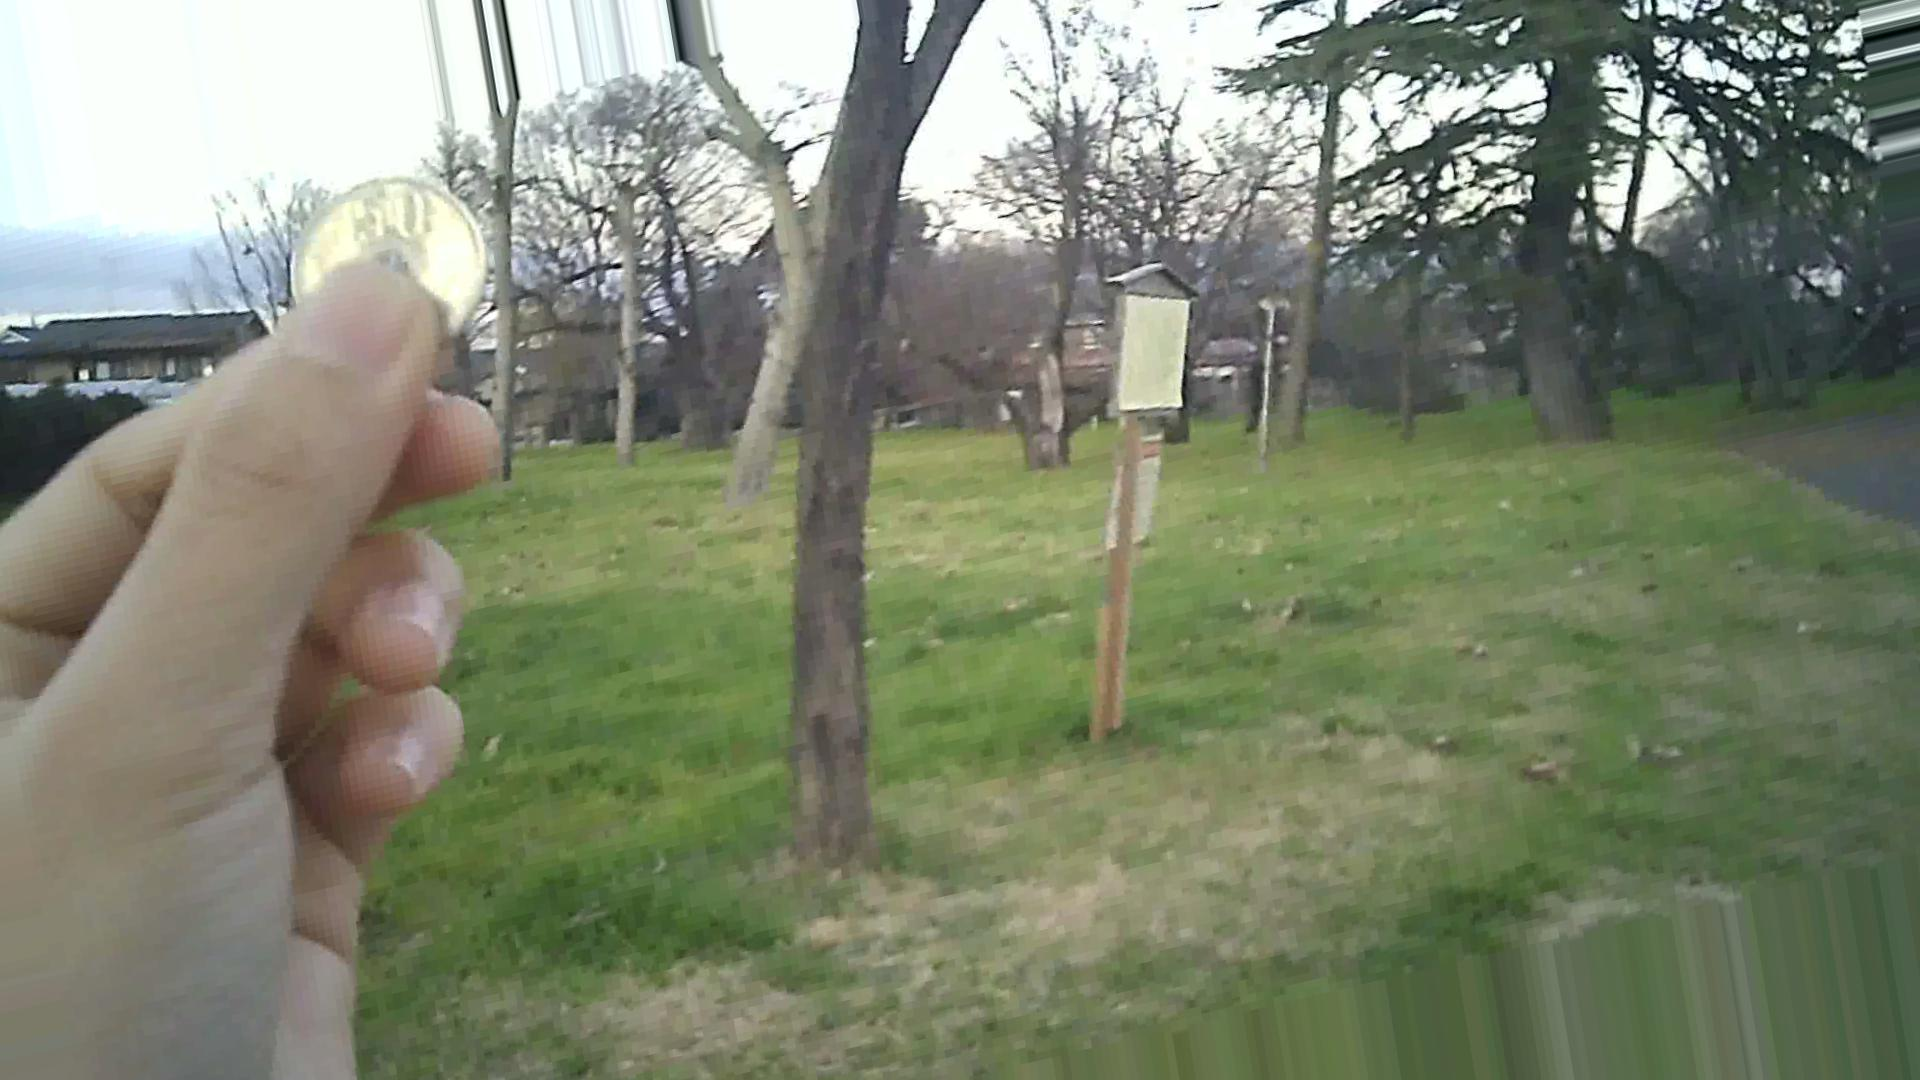50 Yen: (273, 169, 475, 345)
